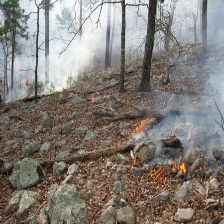fire: (143, 157, 220, 183), (130, 115, 152, 135)
smoke: (14, 1, 188, 98), (170, 81, 224, 149)
